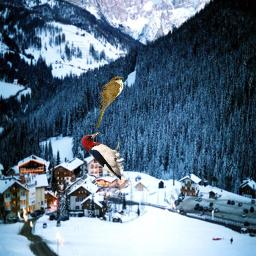Cuckoo: (96, 76, 124, 129)
Woodpecker: (81, 132, 121, 180)
